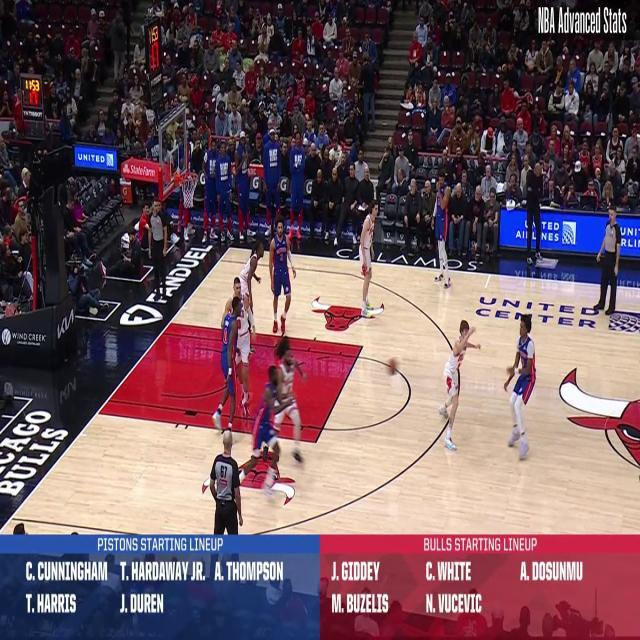ball: (383, 346, 403, 384)
player: (238, 356, 284, 494), (436, 317, 482, 453), (502, 311, 538, 461), (222, 271, 256, 419), (270, 335, 308, 465), (214, 300, 242, 444), (267, 214, 297, 337), (427, 167, 454, 295), (238, 238, 266, 340), (357, 196, 380, 320)
